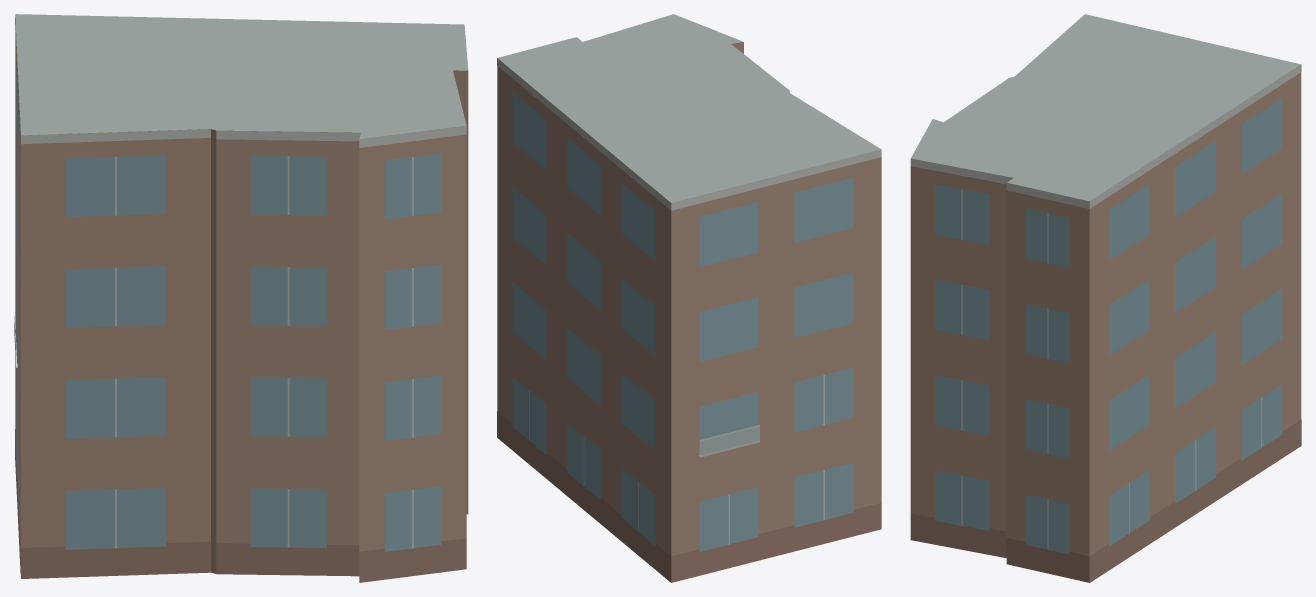
The model's file is survey-upis-32645405.glb.
3 views of the same model, side by side, from view 1: azimuth 30°, elevation 25°; view 2: azimuth 150°, elevation 25°; view 3: azimuth 270°, elevation 25° (orthographic). The views are drawn at different scales.
Visible parts, largest first — view 1: survey-upis-32645405.tmp; view 2: survey-upis-32645405.tmp; view 3: survey-upis-32645405.tmp.
Boxes of the visible parts, x1,y1,x2,y2 form: survey-upis-32645405.tmp: (14,14,468,582); survey-upis-32645405.tmp: (497,14,881,582); survey-upis-32645405.tmp: (910,14,1301,582).
Bounding box in the file's own units: 12.86 × 12.2 × 11.33.
